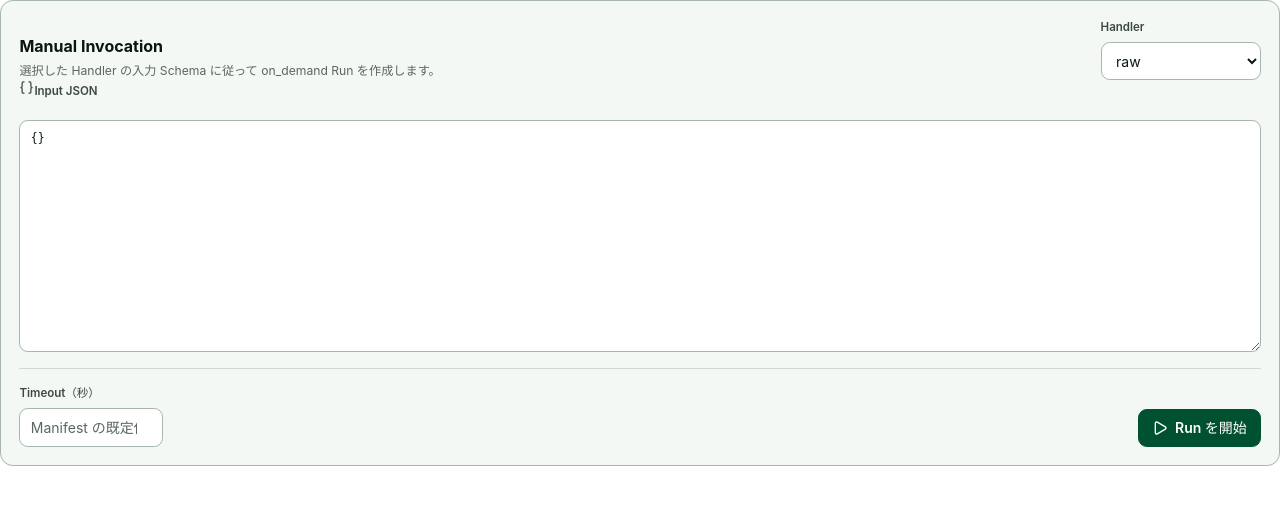
Test: ManualInvocation › uses a JSON editor when no input schema is available and reports parse errors
Replace the text in the text box labelled "Input JSON" with "not-json": (640, 236) [19,120,1261,352]
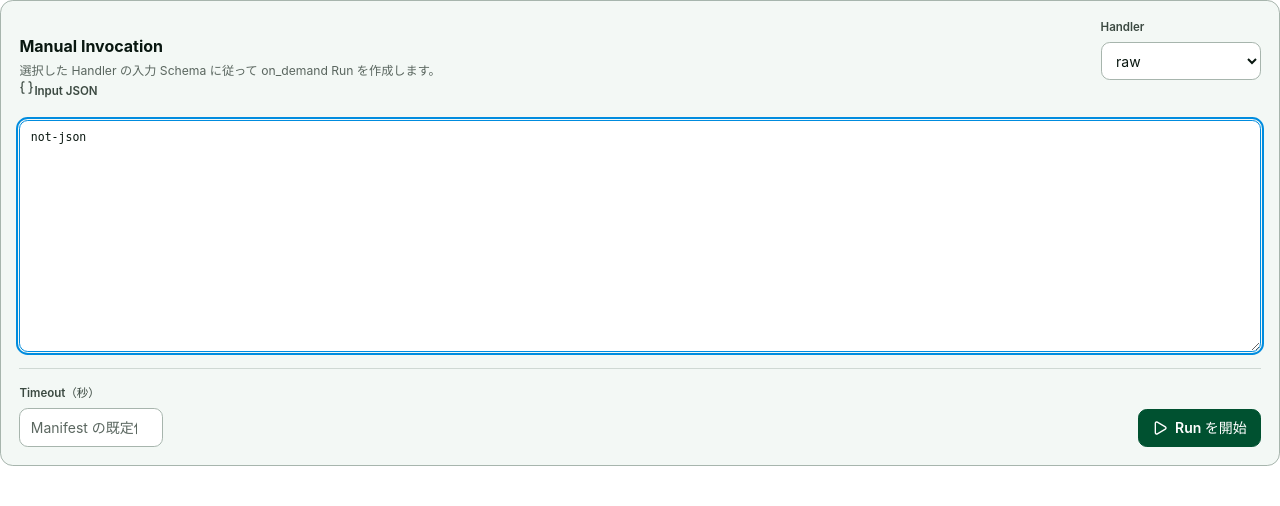
Click the button "Run を開始": (1199, 428) [1138,410,1261,447]
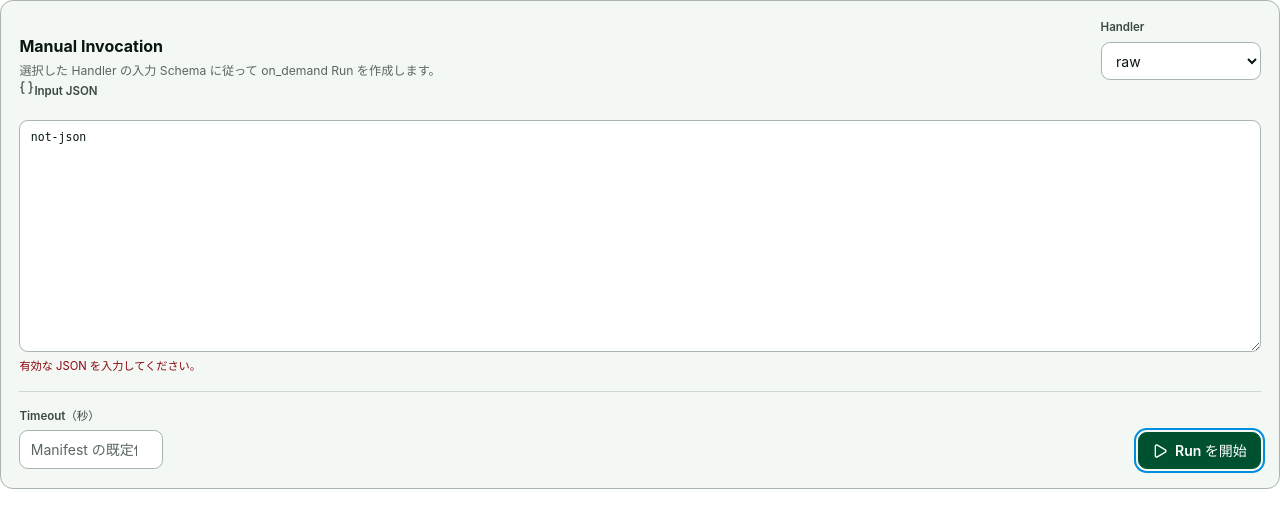
Now the message shows "有効な JSON", box [19,359,201,373]
